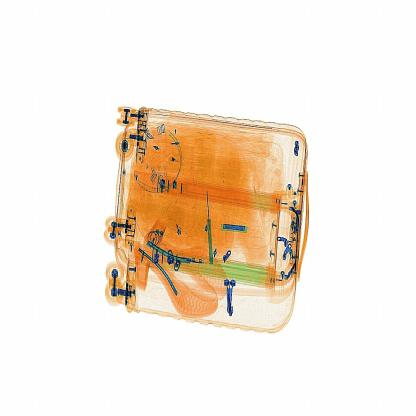wrench: (204, 189, 216, 269)
